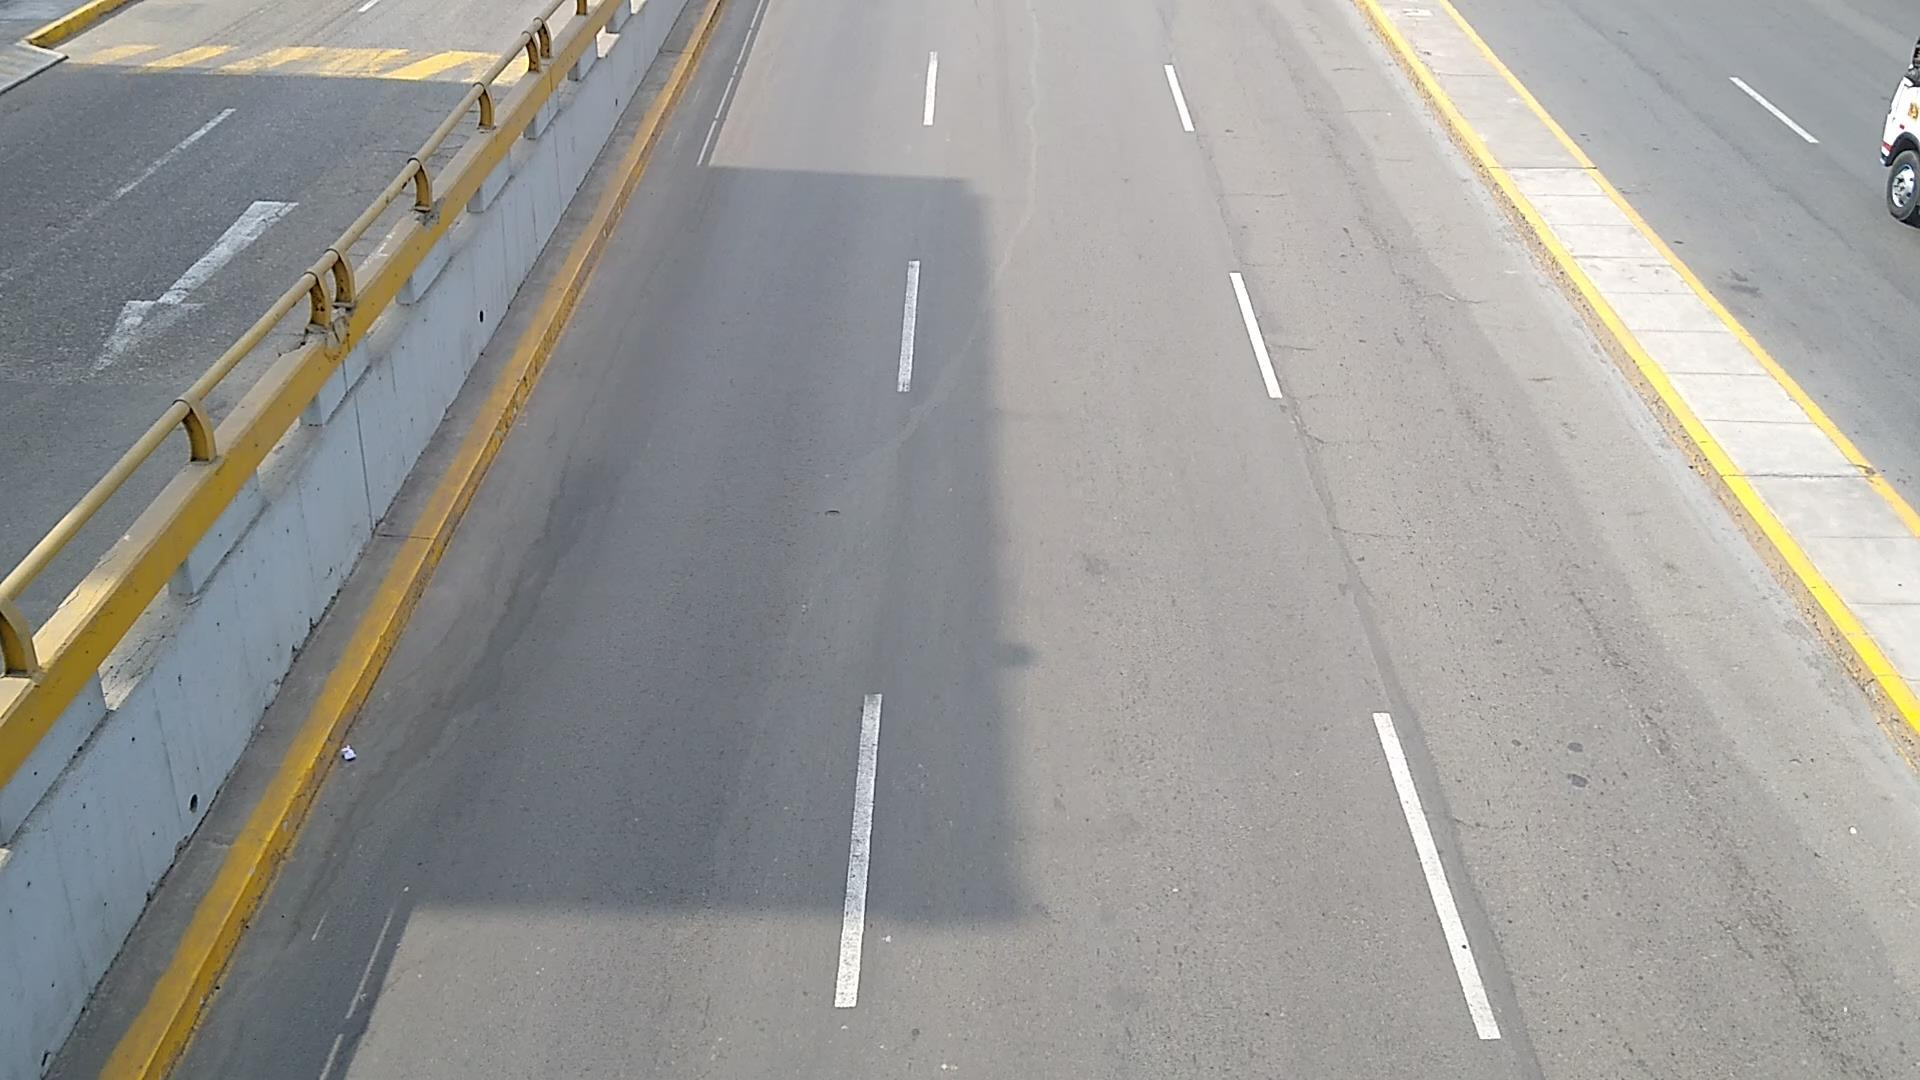car: (0, 0, 547, 572)
